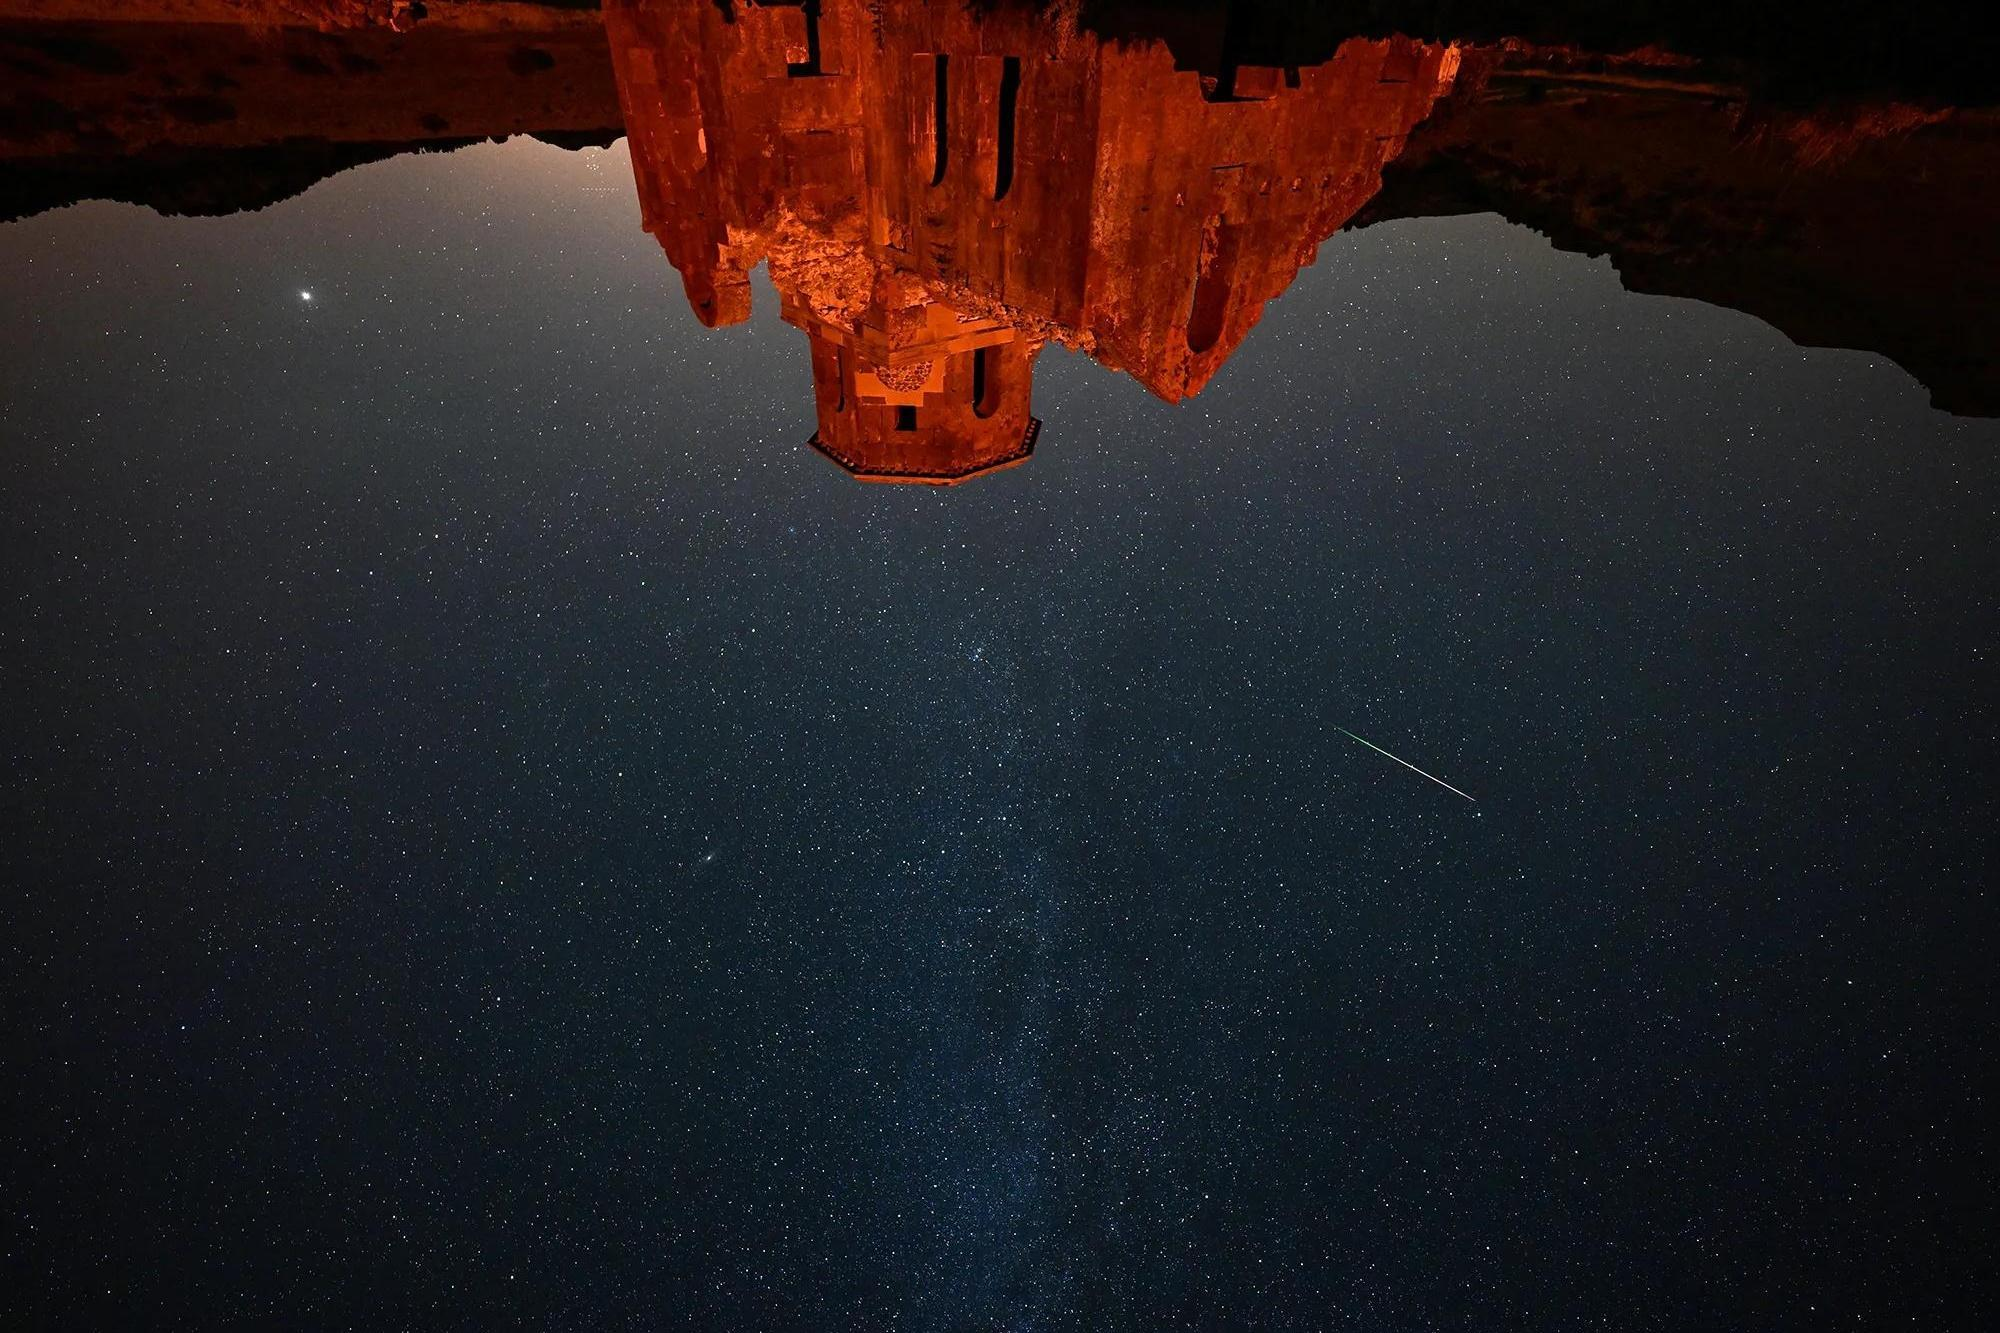meteorite: (1307, 710, 1503, 821)
